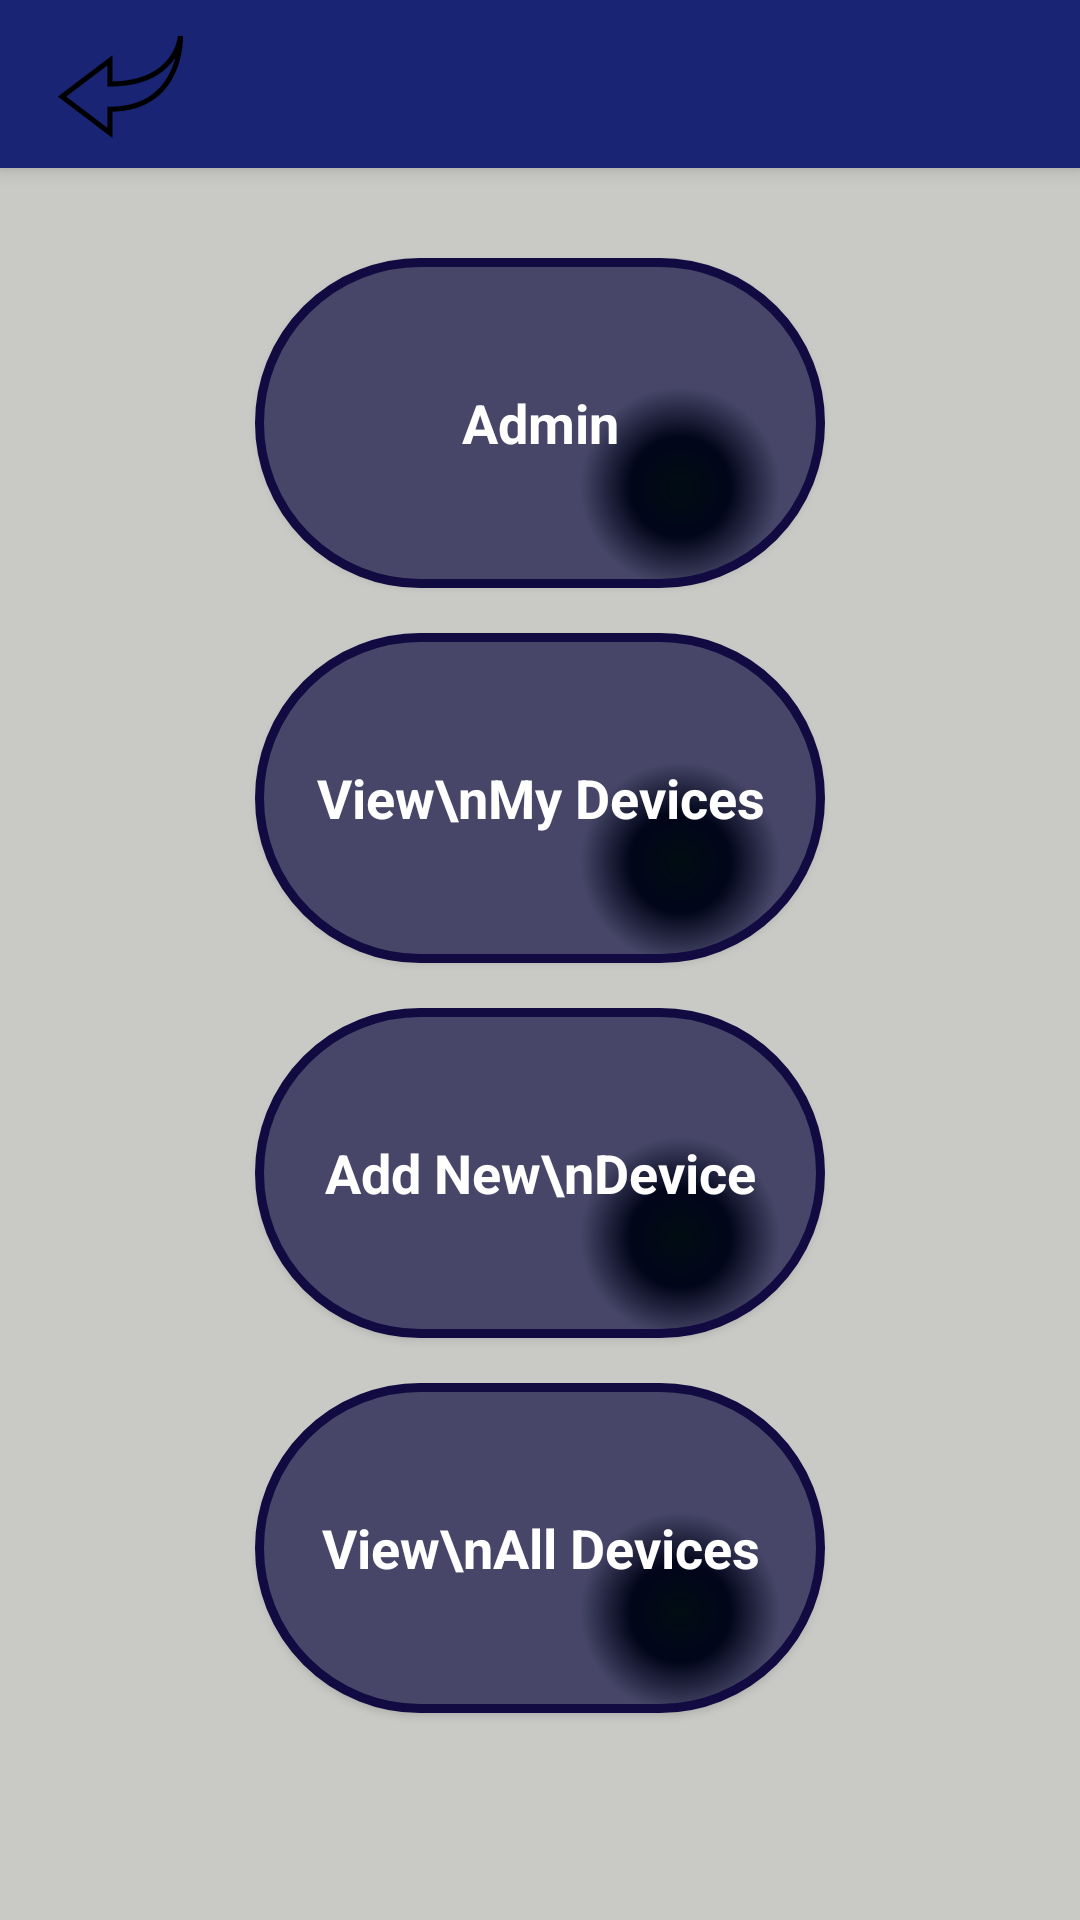

Point at icon controls on the screen. Image size 1080w x 1920h, points as (x,y).
backbutton: (120,87)
